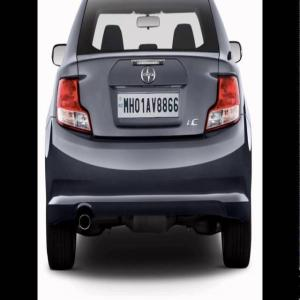Plate: (116, 91, 182, 119)
